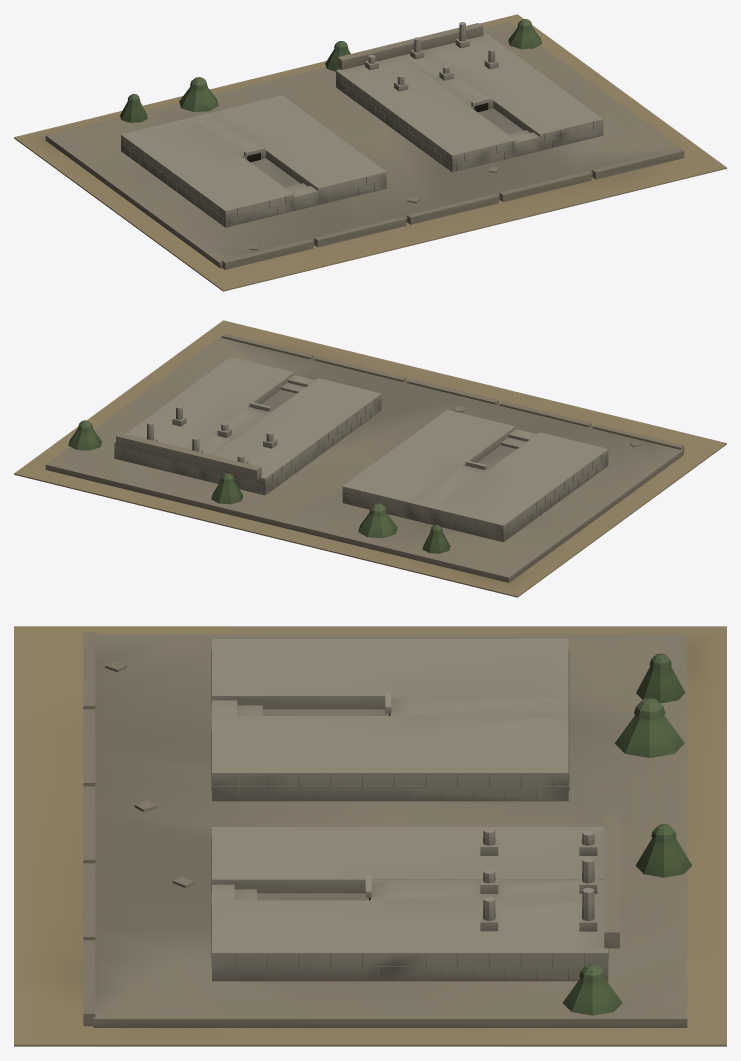
Rendered from kaleb-tombs.glb.
3 renders of one model, top to bottom at view 1: azimuth 30°, elevation 25°; view 2: azimuth 150°, elevation 25°; view 3: azimuth 270°, elevation 25°, orthographic. The views are drawn at different scales.
Parts seen in each view (by area): view 1: p0_terrace, p1_tombs, p2_remains; view 2: p0_terrace, p1_tombs, p2_remains; view 3: p0_terrace, p1_tombs, p2_remains.
Boxes of the visible parts, x1,y1,x2,y2 form: p0_terrace: (14, 14, 726, 291); p1_tombs: (120, 34, 603, 227); p2_remains: (120, 19, 541, 250); p0_terrace: (14, 320, 726, 597); p1_tombs: (114, 357, 608, 542); p2_remains: (68, 405, 641, 553); p0_terrace: (14, 626, 726, 1046); p1_tombs: (211, 639, 608, 981); p2_remains: (105, 653, 692, 1015).
Size of the model in its own units: 50 by 4.31 by 36.
